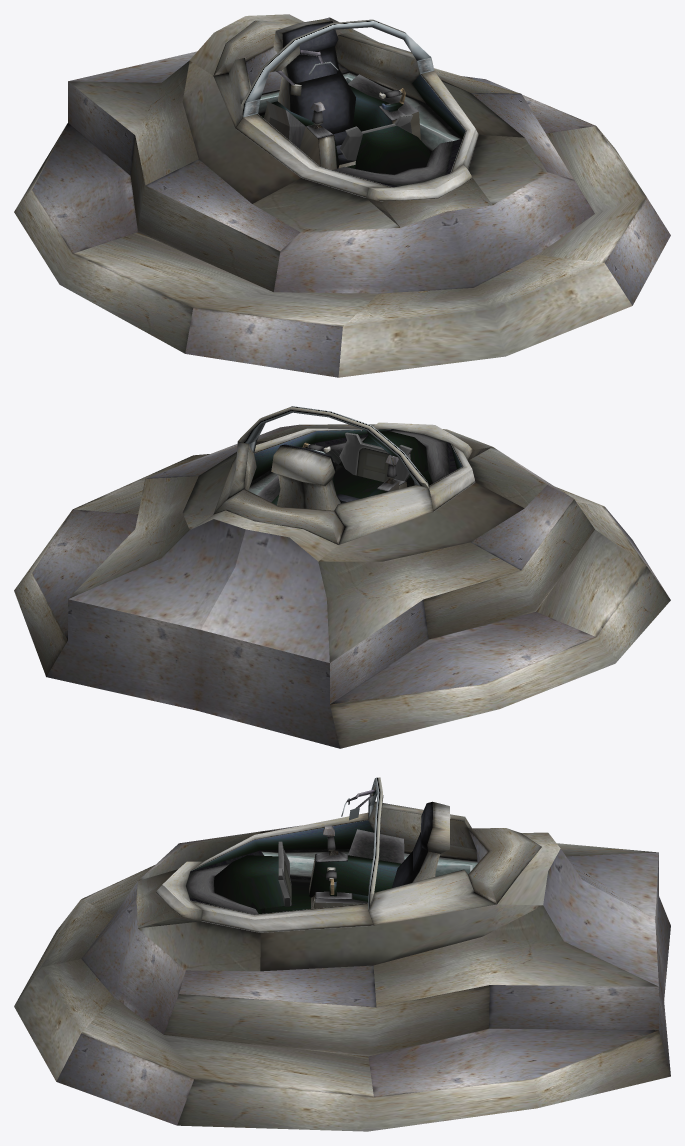
The model's file is disc-4.DAE.
3 renders of one model, top to bottom at view 1: azimuth 30°, elevation 25°; view 2: azimuth 150°, elevation 25°; view 3: azimuth 270°, elevation 25°, orthographic. The views are drawn at different scales.
Visible parts, largest first — view 1: Box04; view 2: Box04; view 3: Box04.
Part boxes in pixels (x1,y1,x2,y2): Box04: (14, 14, 670, 377); Box04: (14, 406, 670, 748); Box04: (14, 777, 670, 1131).
Bounding box in the file's own units: 5.32 × 1.87 × 5.18.
